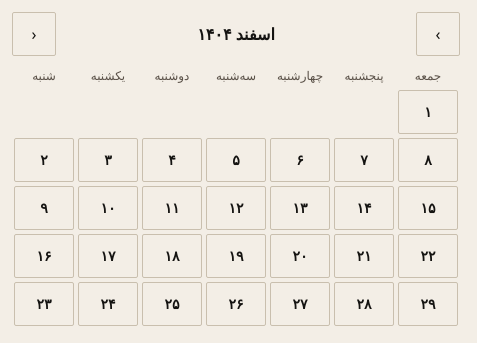
Test: MonthCalendar › moves between months, across the end of the year, and reports the range on show
This screenshot has width=477, height=343.
Click the button named "ماه بعد" at (438, 34), box left=416, top=12, right=460, bottom=56
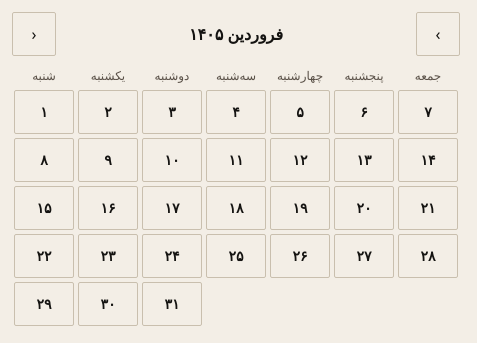
Result: the heading reads "فروردین ۱۴۰۵" at left=189, top=23, right=283, bottom=45
Click the button named "ماه قبل" at (34, 34), box left=12, top=12, right=56, bottom=56
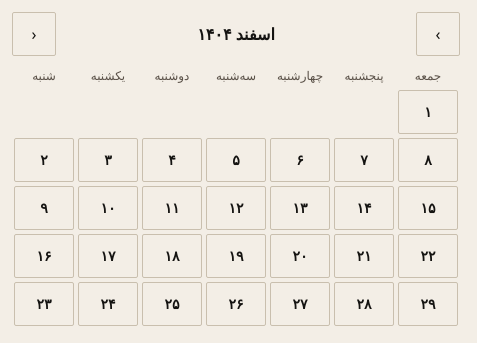
Click the button named "ماه قبل" at (34, 34), box left=12, top=12, right=56, bottom=56
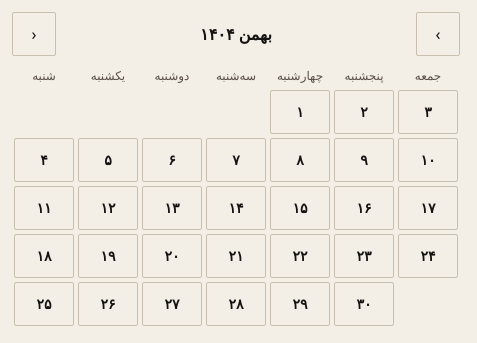
Result: the heading reads "بهمن ۱۴۰۴" at left=200, top=23, right=272, bottom=45
